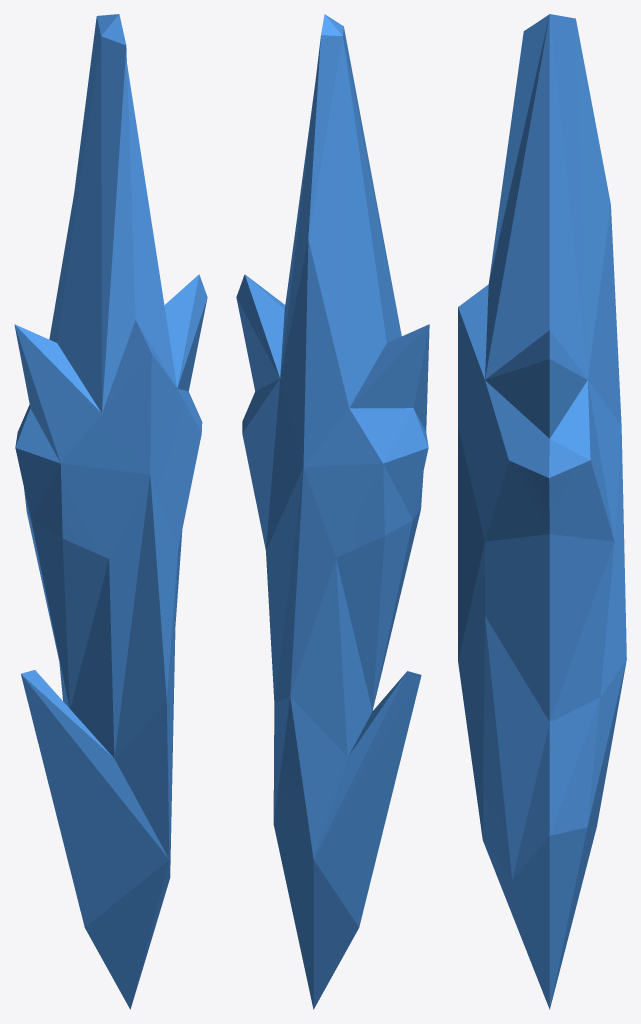
Rendered from IceCone.fbx.
3 views of the same model, side by side, from view 1: azimuth 30°, elevation 25°; view 2: azimuth 150°, elevation 25°; view 3: azimuth 270°, elevation 25° (orthographic).
Parts seen in each view (by area): view 1: Monster_Wolf_LupiBoreas_IceCone_03_Model; view 2: Monster_Wolf_LupiBoreas_IceCone_03_Model; view 3: Monster_Wolf_LupiBoreas_IceCone_03_Model.
Part boxes in pixels (<box>): Monster_Wolf_LupiBoreas_IceCone_03_Model: <box>14,14,207,1009</box>; Monster_Wolf_LupiBoreas_IceCone_03_Model: <box>236,14,429,1009</box>; Monster_Wolf_LupiBoreas_IceCone_03_Model: <box>458,14,626,1009</box>.
Bounding box in the file's own units: 139 × 685 × 106.
1 material, 1 textured.
